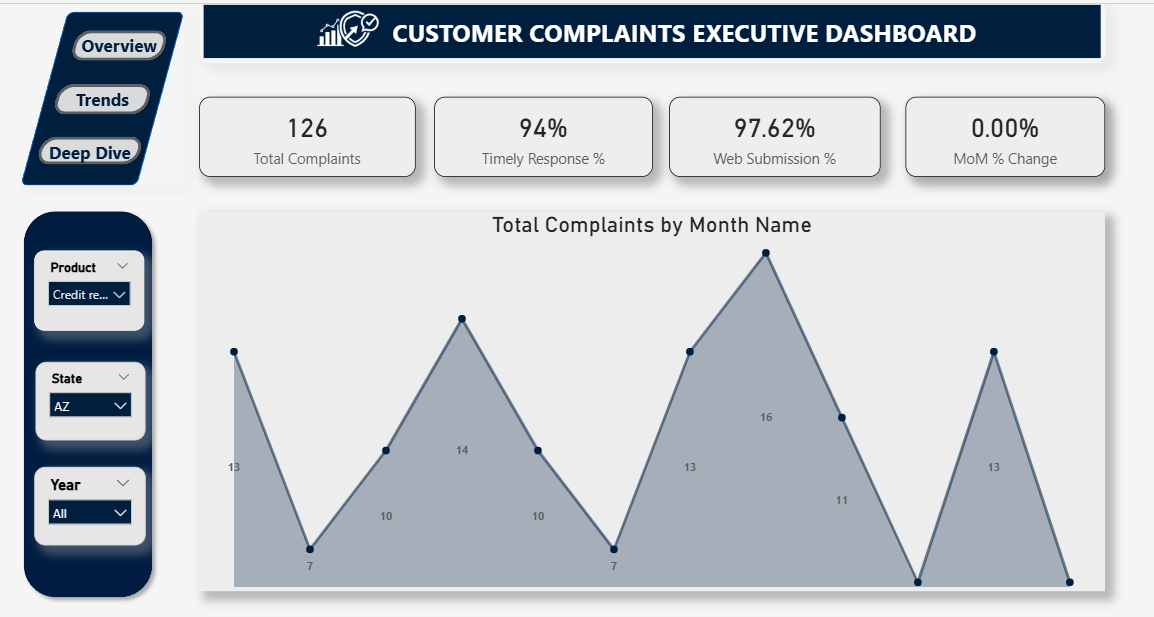

Layout of this report page (visuals, bound fields, positions):
{"tool":"powerbi","page":{"name":"Overview","canvas":[1280,720],"ordinal":0},"visuals":[{"type":"shape","box":[24.7,53.5,179.8,190.7],"z":0},{"type":"card","fields":{"Values":["_Measures.Web Submission %"]},"box":[736.9,146.8,231.9,87.8],"z":1000},{"type":"stackedAreaChart","fields":{"Category":["Dim_Date.Month Name"],"Y":["_Measures.Total Complaints"]},"box":[221.4,272.9,994.3,417.1],"z":2000},{"type":"card","fields":{"Values":["_Measures.MoM % Change"]},"box":[996.2,146.8,219.6,87.8],"z":3000},{"type":"card","fields":{"Values":["_Measures.Timely Response %"]},"box":[478.9,146.8,240.1,87.8],"z":4000},{"type":"card","fields":{"Values":["_Measures.Total Complaints"]},"box":[220.9,146.8,237.4,87.8],"z":5000},{"type":"shape","box":[19.2,263.5,159.2,441.9],"z":6000},{"type":"slicer","fields":{"Values":["Dim_Product.Product"]},"box":[39.8,315.6,120.8,87.8],"z":7000},{"type":"slicer","fields":{"Values":["Dim_Geography.State"]},"box":[41.2,437.7,120.8,86.4],"z":8000},{"type":"slicer","fields":{"Values":["Dim_Date.Year"]},"box":[39.8,553,122.1,86.4],"z":9000},{"type":"actionButton","box":[78.2,74.1,109.8,32.9],"z":10000},{"type":"actionButton","box":[41.2,190.7,119.4,30.2],"z":11000},{"type":"actionButton","box":[59,133.1,111.1,32.9],"z":12000},{"type":"shape","box":[220.9,41.2,994.9,68.6],"z":13000},{"type":"image","box":[262.1,49.4,237.4,50.8],"z":14000},{"type":"textbox","box":[428.1,53.5,761.6,46.7],"z":15000}]}

Visuals, with their boxes on the page's 1280x720 design canvas (x1, y1, x2, y2). These are canvas units, not pixel positions in the 1154x617 screenshot, which may show the page scaled, cropped or inside an application window:
shape: (25, 54, 204, 244)
card - _Measures.Web Submission %: (737, 147, 969, 235)
stackedAreaChart - Dim_Date.Month Name x _Measures.Total Complaints: (221, 273, 1216, 690)
card - _Measures.MoM % Change: (996, 147, 1216, 235)
card - _Measures.Timely Response %: (479, 147, 719, 235)
card - _Measures.Total Complaints: (221, 147, 458, 235)
shape: (19, 264, 178, 705)
slicer - Dim_Product.Product: (40, 316, 161, 403)
slicer - Dim_Geography.State: (41, 438, 162, 524)
slicer - Dim_Date.Year: (40, 553, 162, 639)
actionButton: (78, 74, 188, 107)
actionButton: (41, 191, 161, 221)
actionButton: (59, 133, 170, 166)
shape: (221, 41, 1216, 110)
image: (262, 49, 500, 100)
textbox: (428, 54, 1190, 100)
